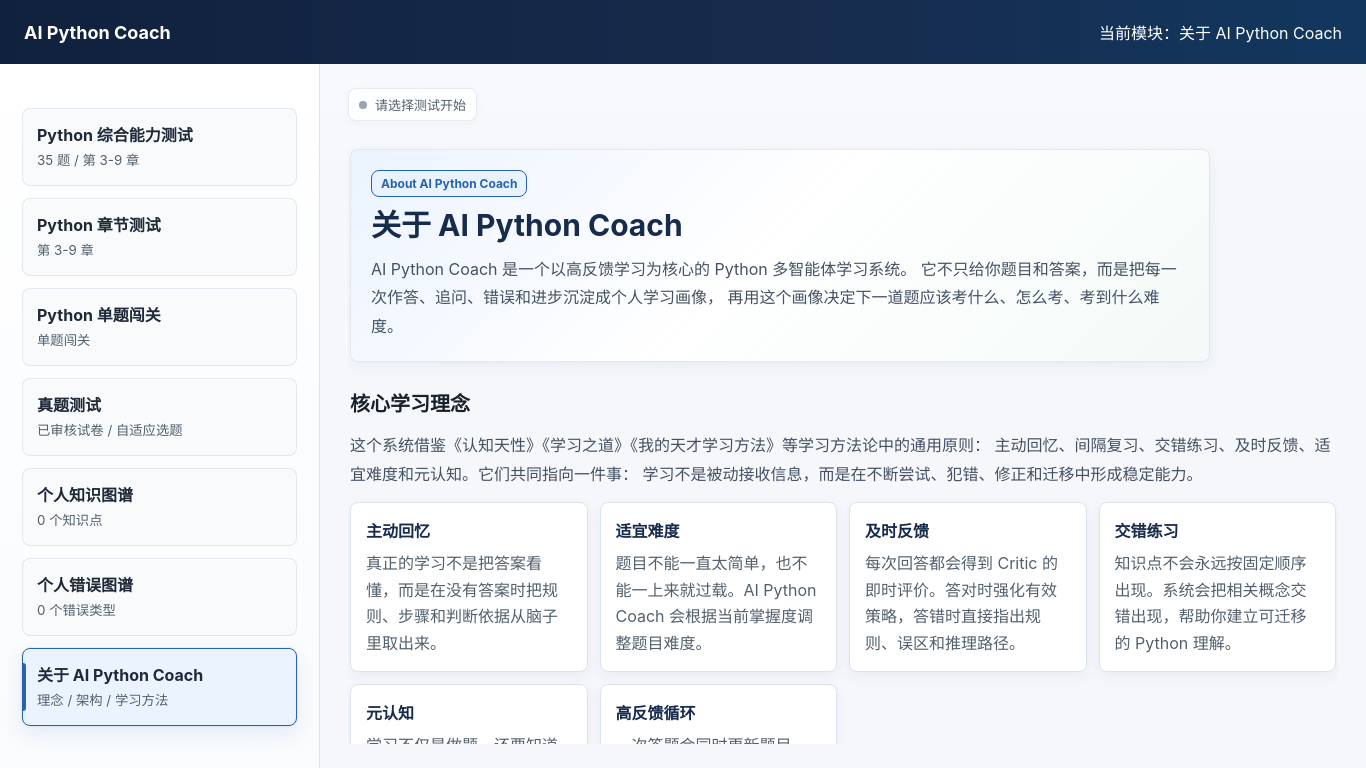
LearningPage integration › shows the Python foundation diagnostic intro before starting
Click the button with aria-label "查看 Python 综合能力测试介绍": click(160, 147) 22,108 -> 297,186
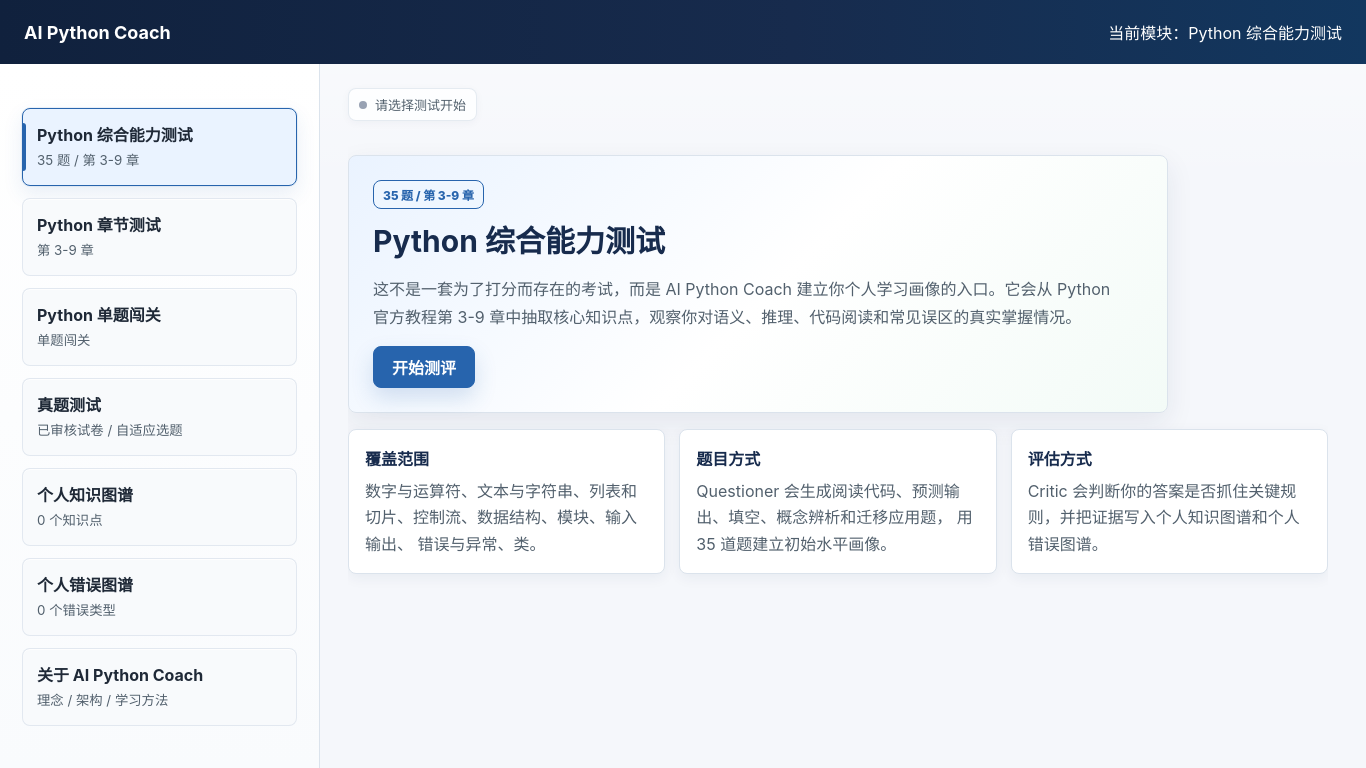
Expected: the heading "Python 综合能力测试" is shown, 373,223 -> 665,259
Expected: the text "建立你个人学习画像" is shown, 373,278 -> 1110,327
Click the button "开始测评": click(424, 367) 373,346 -> 475,388
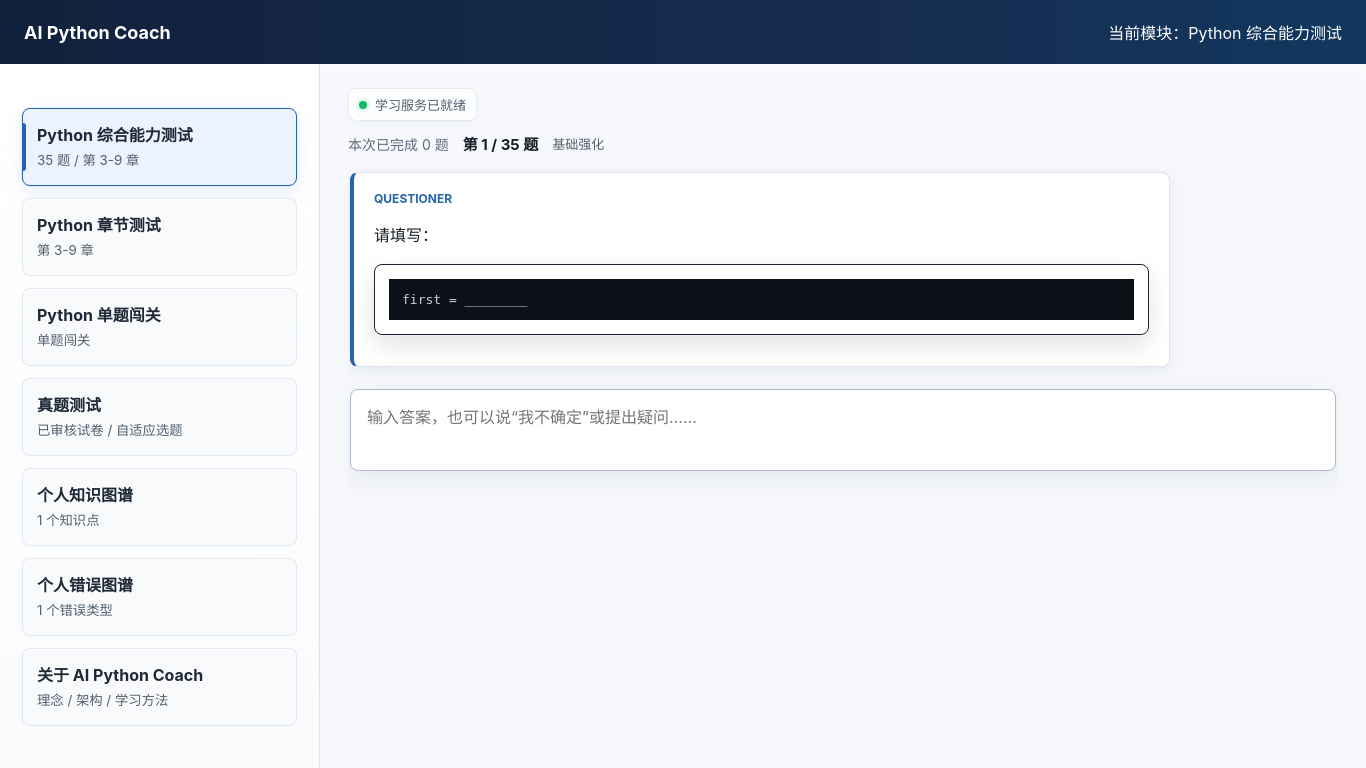
Expected: the text "当前模块：Python 综合能力测试" is shown, 1108,20 -> 1342,44
Expected: the text "第 1 / 35 题" is shown, 463,133 -> 538,154
